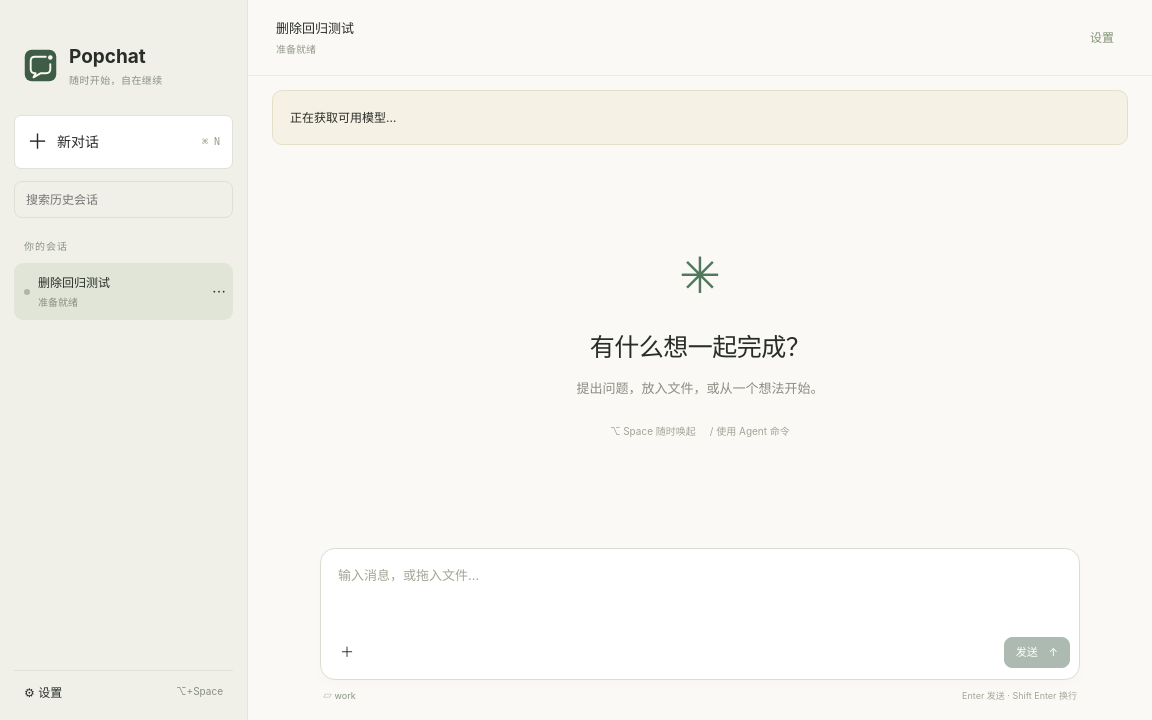
Test case: 确认删除绑定原会话，等待期间只提交一次，成功移除历史
This screenshot has width=1152, height=720.
Click the button named "管理 删除回归测试" at [219, 292], box [205,278,233,306]
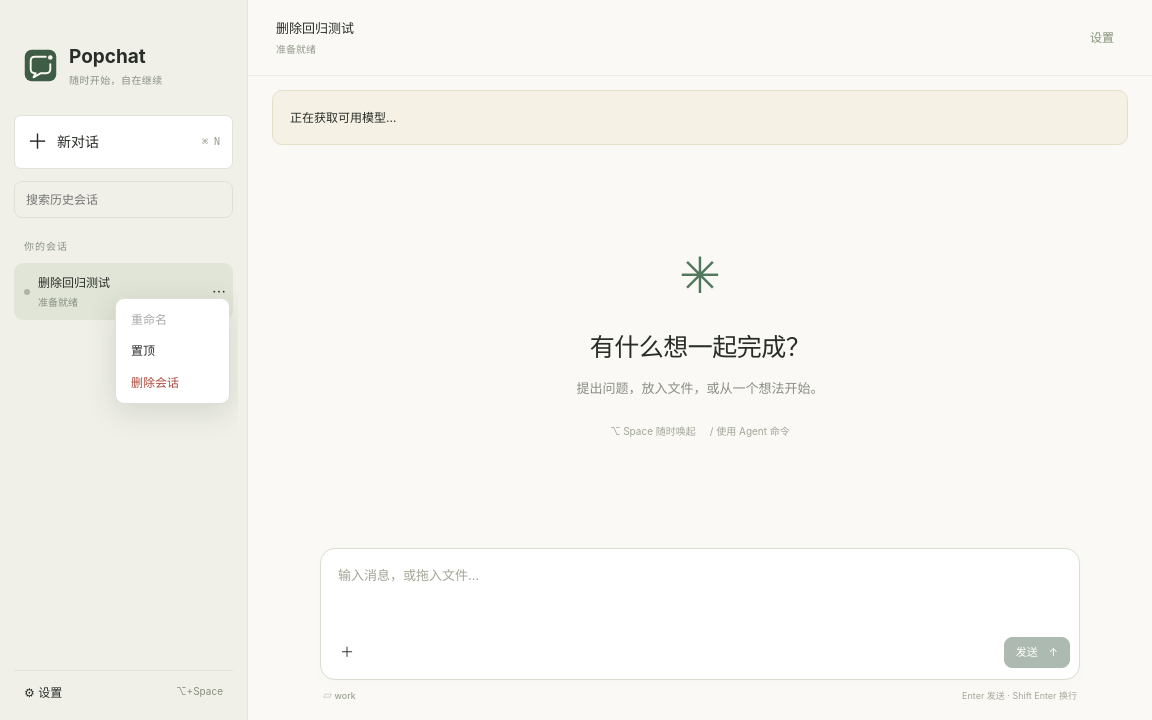
Click the button "删除会话" at [172, 382], box [121,366,224,398]
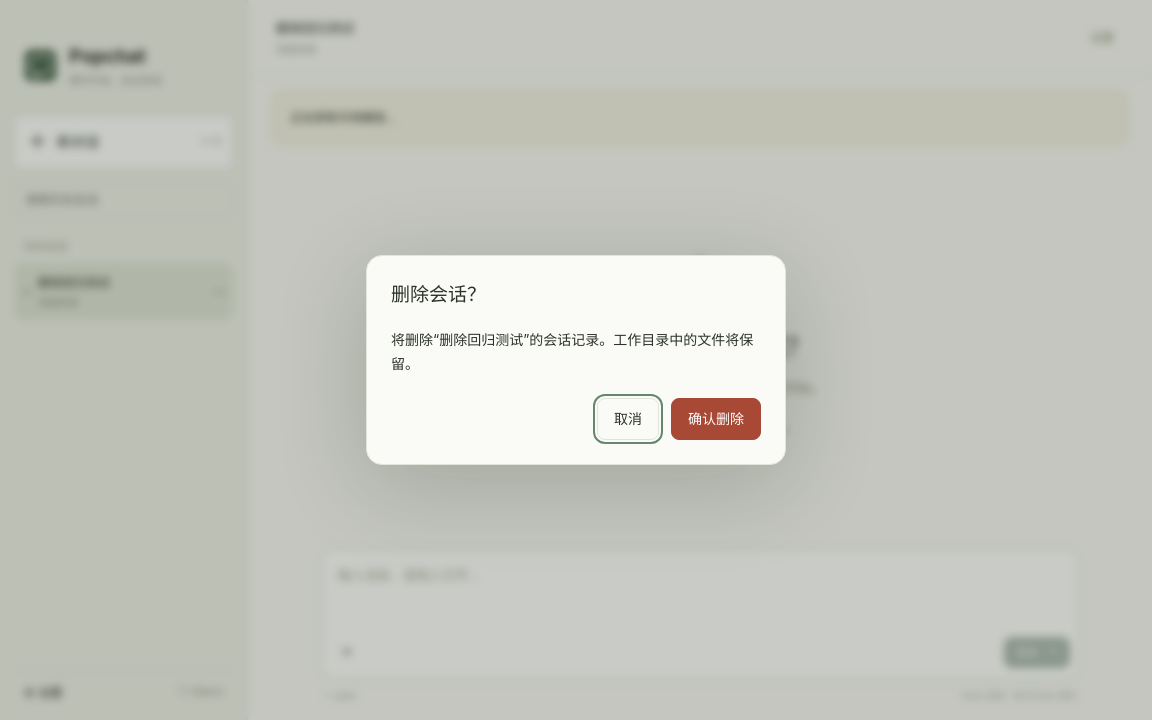
Click the button "确认删除" at [716, 419], box [671,398,761,440]
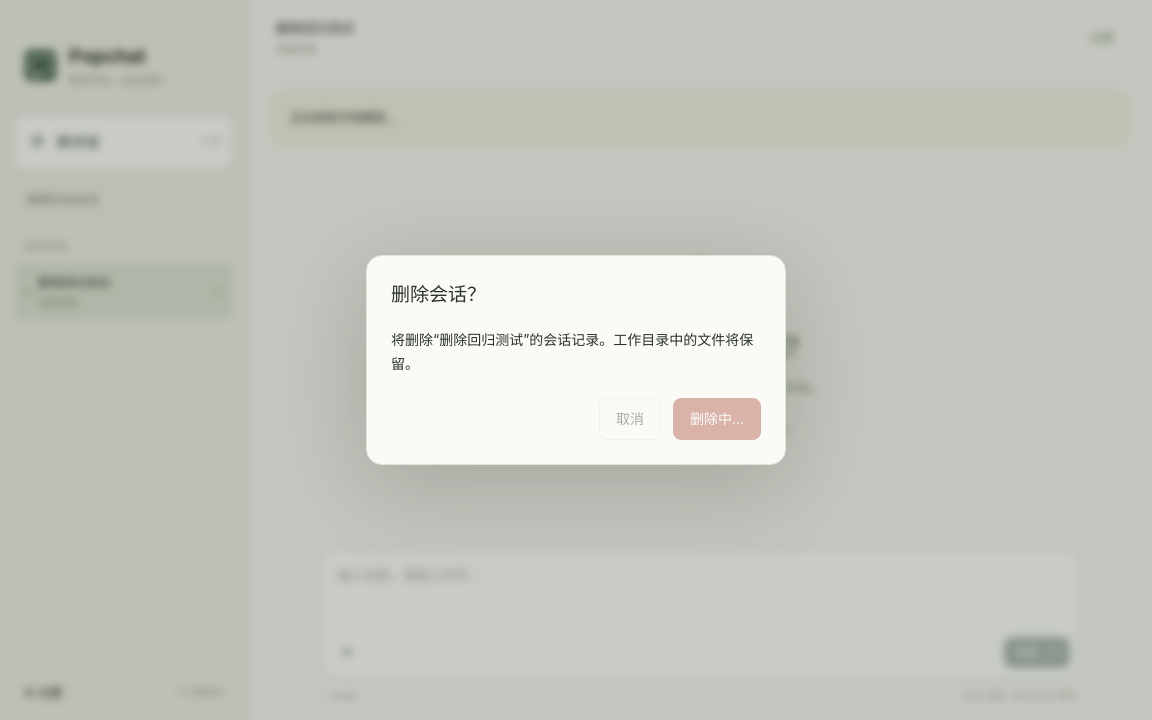
Click the button named "确认删除" at [717, 419], box [673,398,761,440]
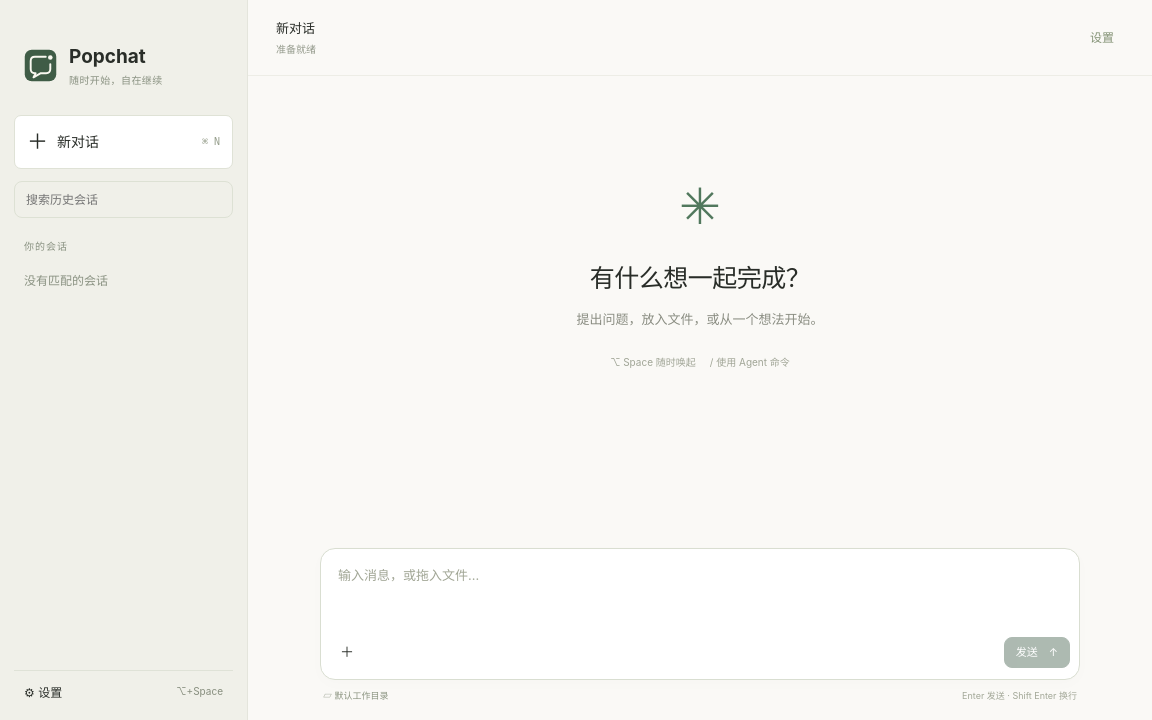
Check: the dialog is gone
